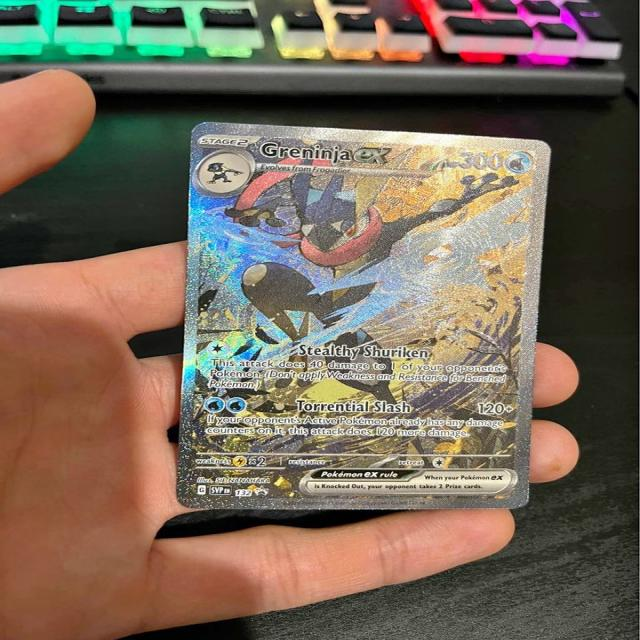card: (176, 121, 553, 509)
